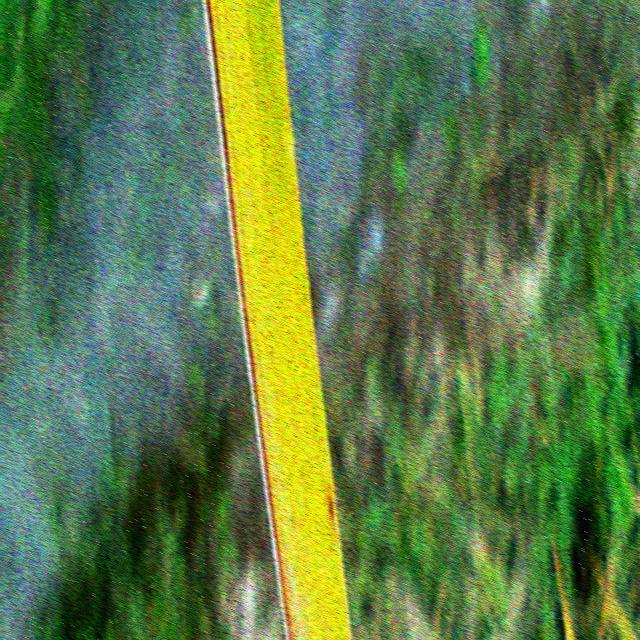BLB: (202, 0, 301, 640)
